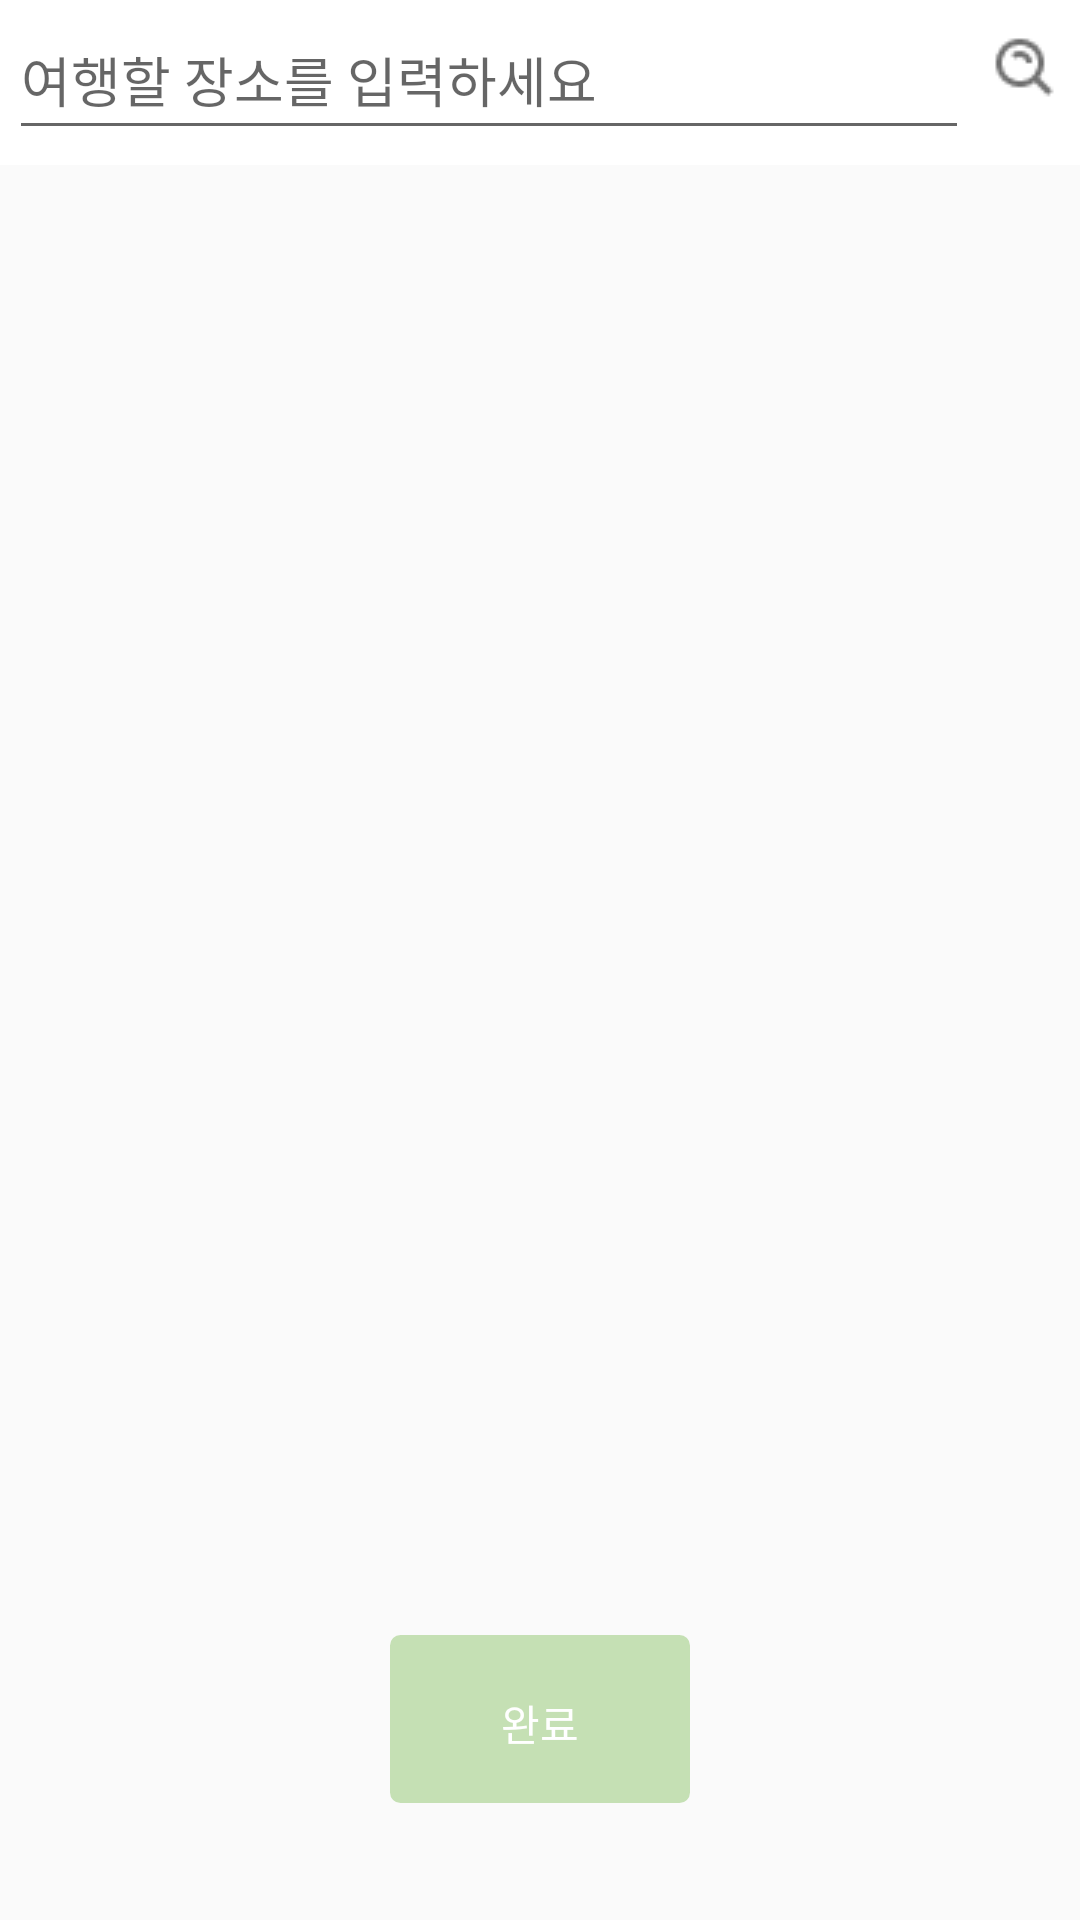

Icons on this 1080px x 1920px Android screen, each with its box as region(x1, y1, x2, y2):
search: region(995, 38, 1053, 96)
